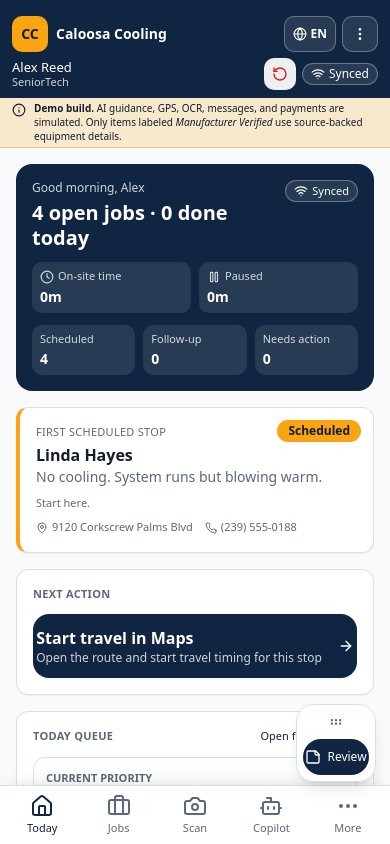
Test case: migration baseline › shows the live review conversation as a chat transcript
This screenshot has width=390, height=844.
Click the button with aria-label "review layer".
click(336, 757)  # box [303, 739, 369, 775]
(page scrolled)
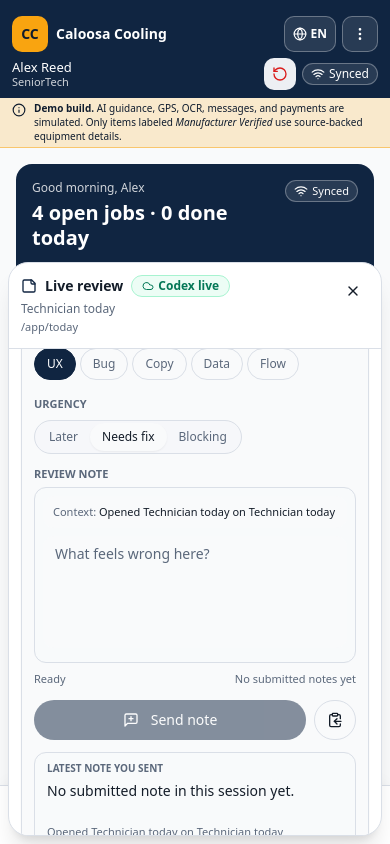
Type "The current screen needs tighter spacing." into the text box with placeholder "What feels wrong here?".
click(195, 592); type("The current screen needs tighter spacing.")  # box [43, 536, 347, 648]
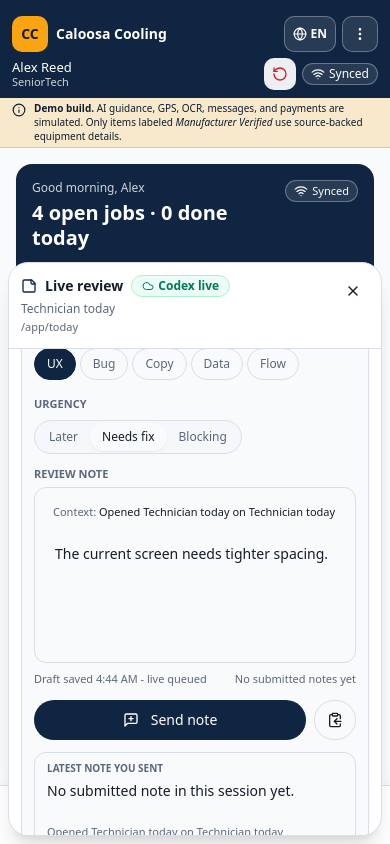
Click the button "Send note".
click(170, 720)  # box [34, 700, 306, 740]
(page scrolled)
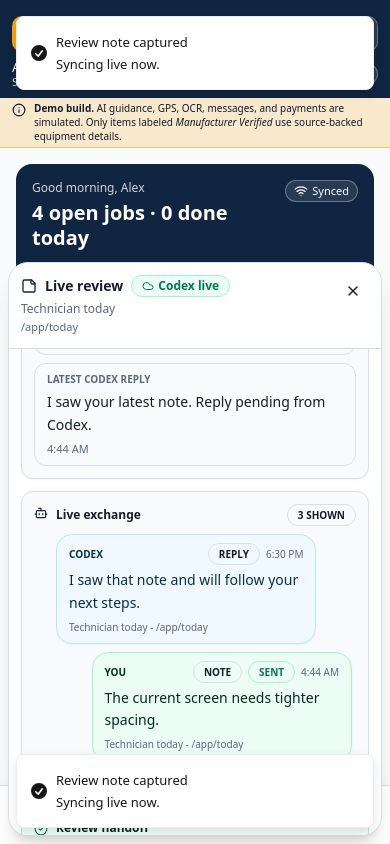
Result: the text "Live exchange" is shown at [56, 507, 141, 523]
Result: the text "I saw that note and will follow your next steps." is shown at [69, 569, 304, 615]
